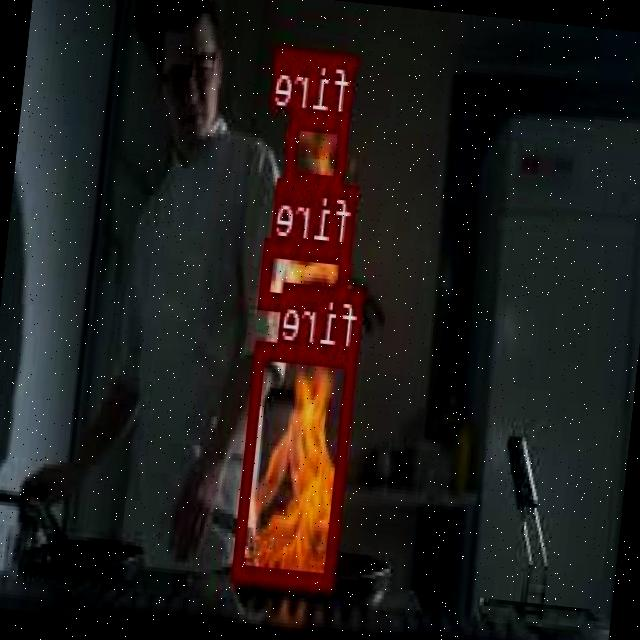fire: (235, 339, 358, 586), (260, 236, 352, 314), (286, 107, 352, 190)
